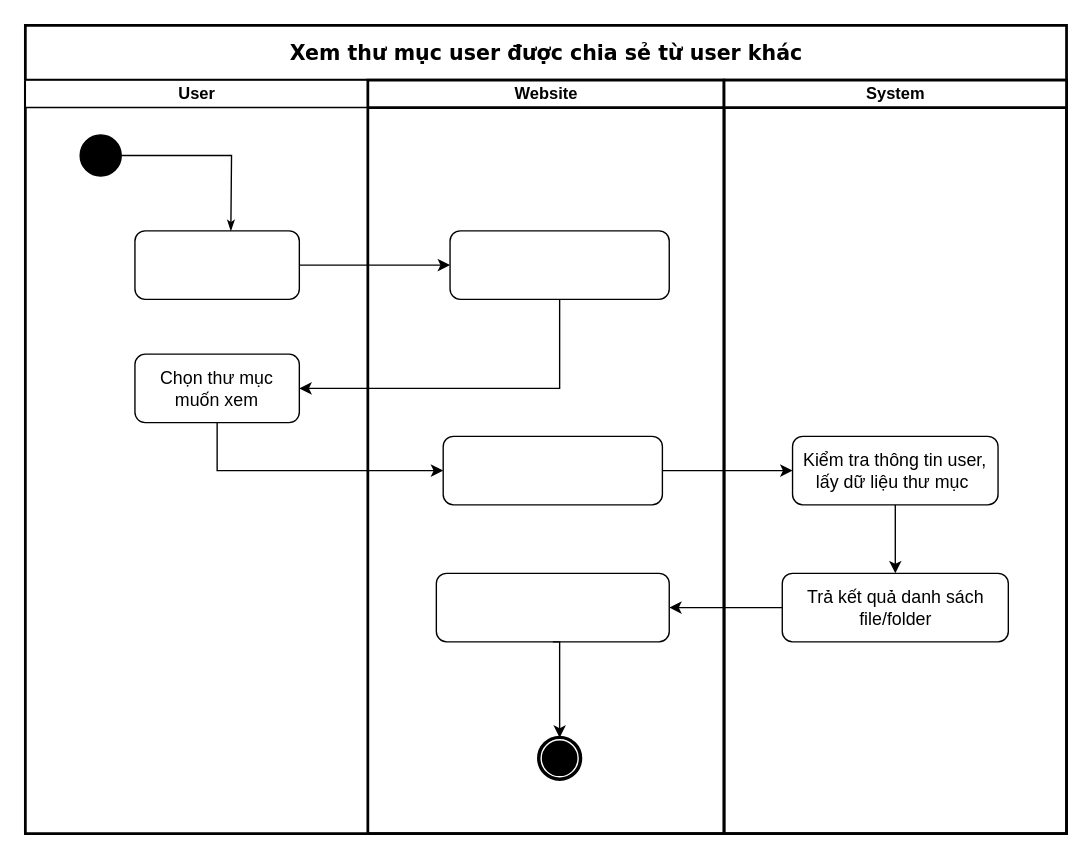
Image size: 1091x858. Some labels were removed from this diagram. The shapes that lost their labels are listed below. From the top down, each one's centre as x and y in pixels, then its label:
the point at 216,264: Chọn mục chia sẻ với tôi
the point at 559,264: Hiển thị danh sách thư mục đang được chia sẻ
the point at 552,470: Gửi message thông tin thư mục user muốn xem
the point at 552,607: Hiển thị danh sách file/folder của thư mục chia sẻ
